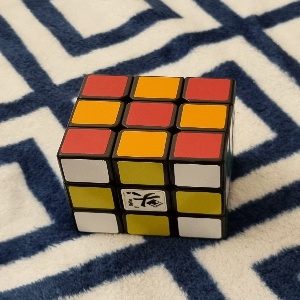cube: (56, 74, 236, 240)
